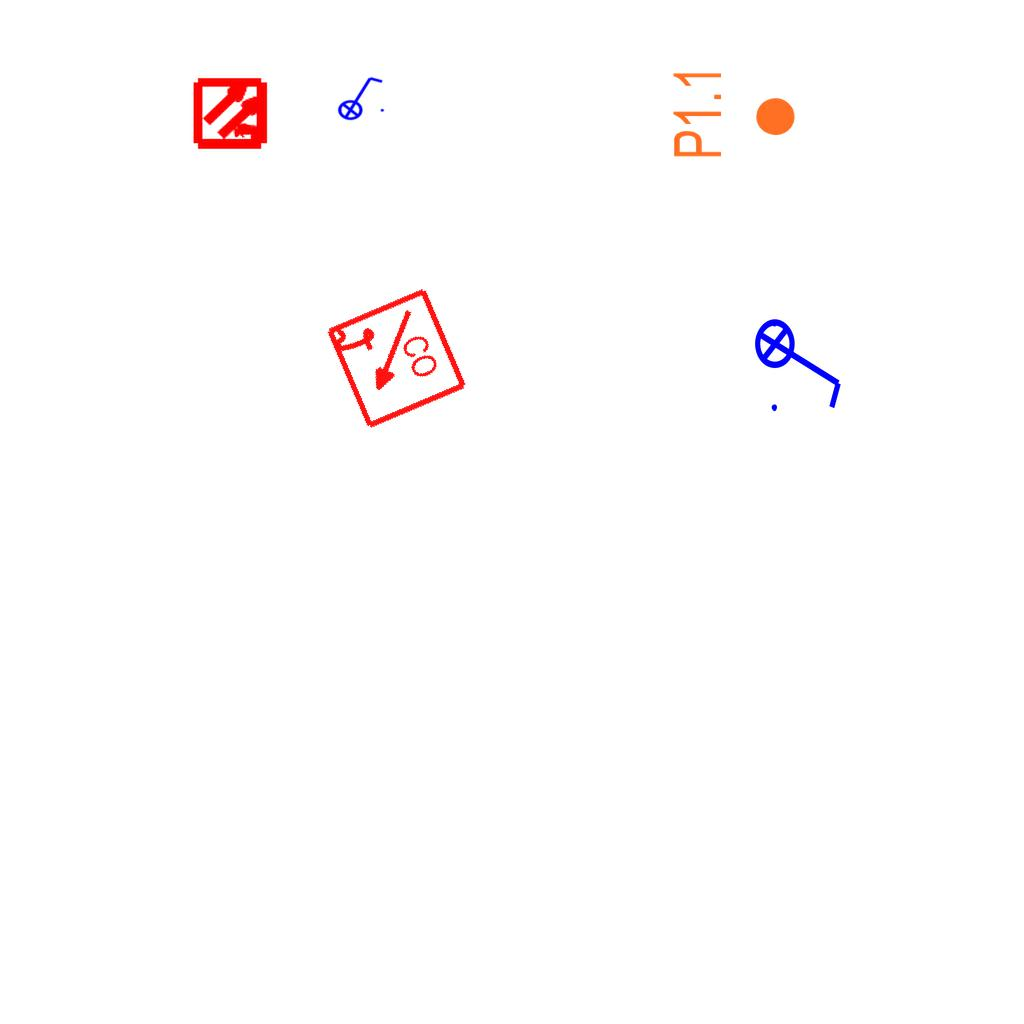Ausschalter_beleuchtet: (753, 305, 849, 417), (331, 73, 387, 121)
Downlight_LED_Einbauleuchten_Flur: (670, 67, 798, 160)
OT_Multisensormelder_(Kombination_RMO_WMD): (176, 57, 289, 170)
ROA_Rauchmelder_optisch_mit_Signalgeber_(Sockelsirene): (321, 285, 470, 434)
